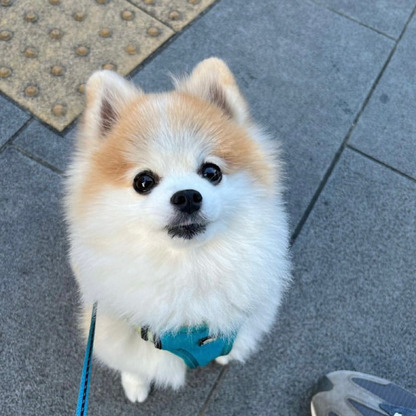Pomeranian: (44, 54, 318, 405)
